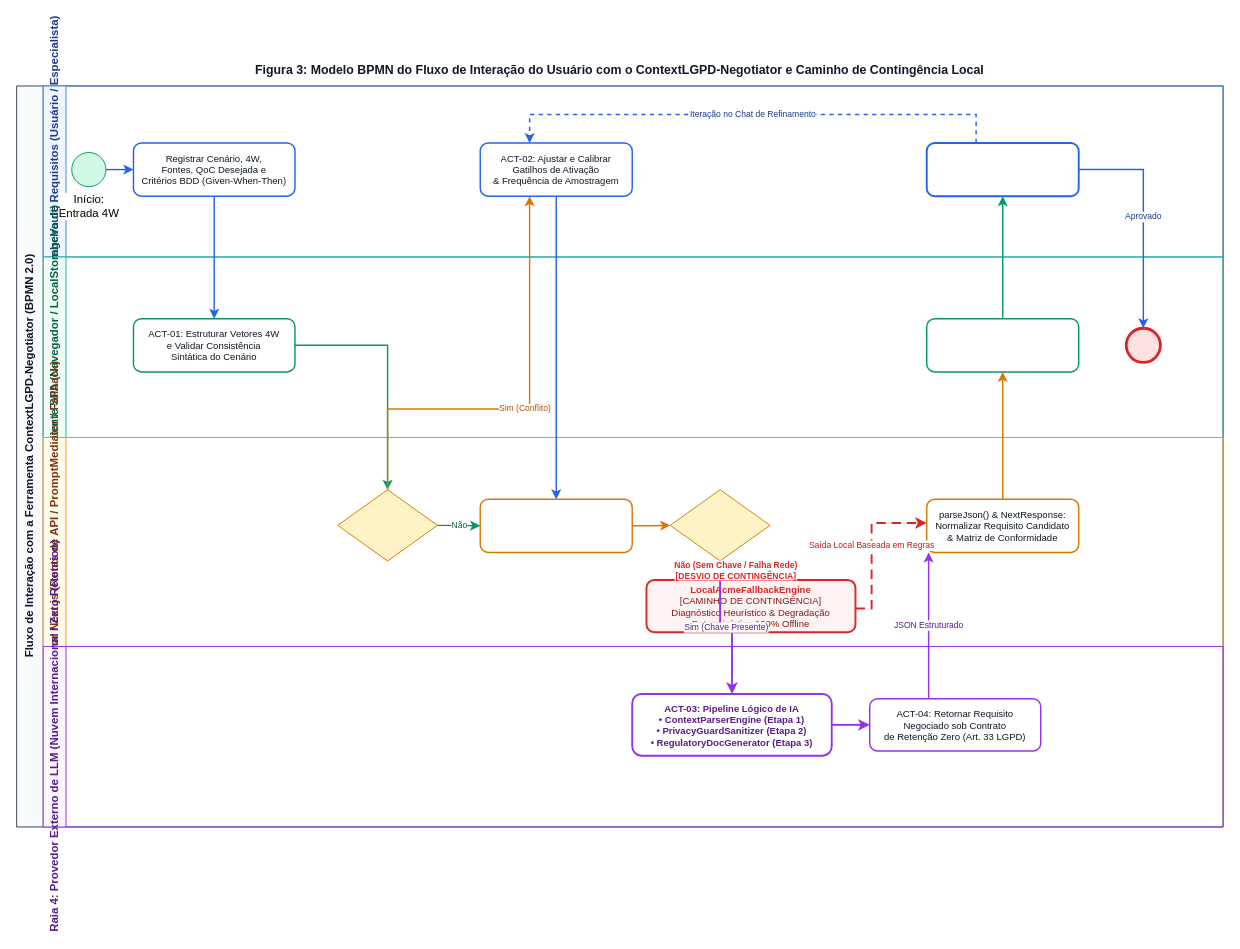
This 1240x949 diagram has some shape labels left out. The shapes that lost their labels are listed below. From the top down, each one's centre as x and y in pixels, then its label:
At point 1002,169: "ACT-06: Revisar, Editar, Interagir no Chat, Aprovar ou Rejeitar Proposta".
At point 1002,345: "ACT-05: Compilar Matriz de Accountability (Art. 6º, X) e Rascunho do RIPD (.md)".
At point 1142,344: "EV-02: Salvar no Cofre Local & Exportar JSON".
At point 387,525: "GW-01: Tensão com Paradoxos Detectada?".
At point 556,525: "formatPrompt() & SYSTEM_PROMPT_NEGOTIATOR (Anonimização & Borda)".
At point 719,525: "Chave de API configurada & Rede ativa?".
